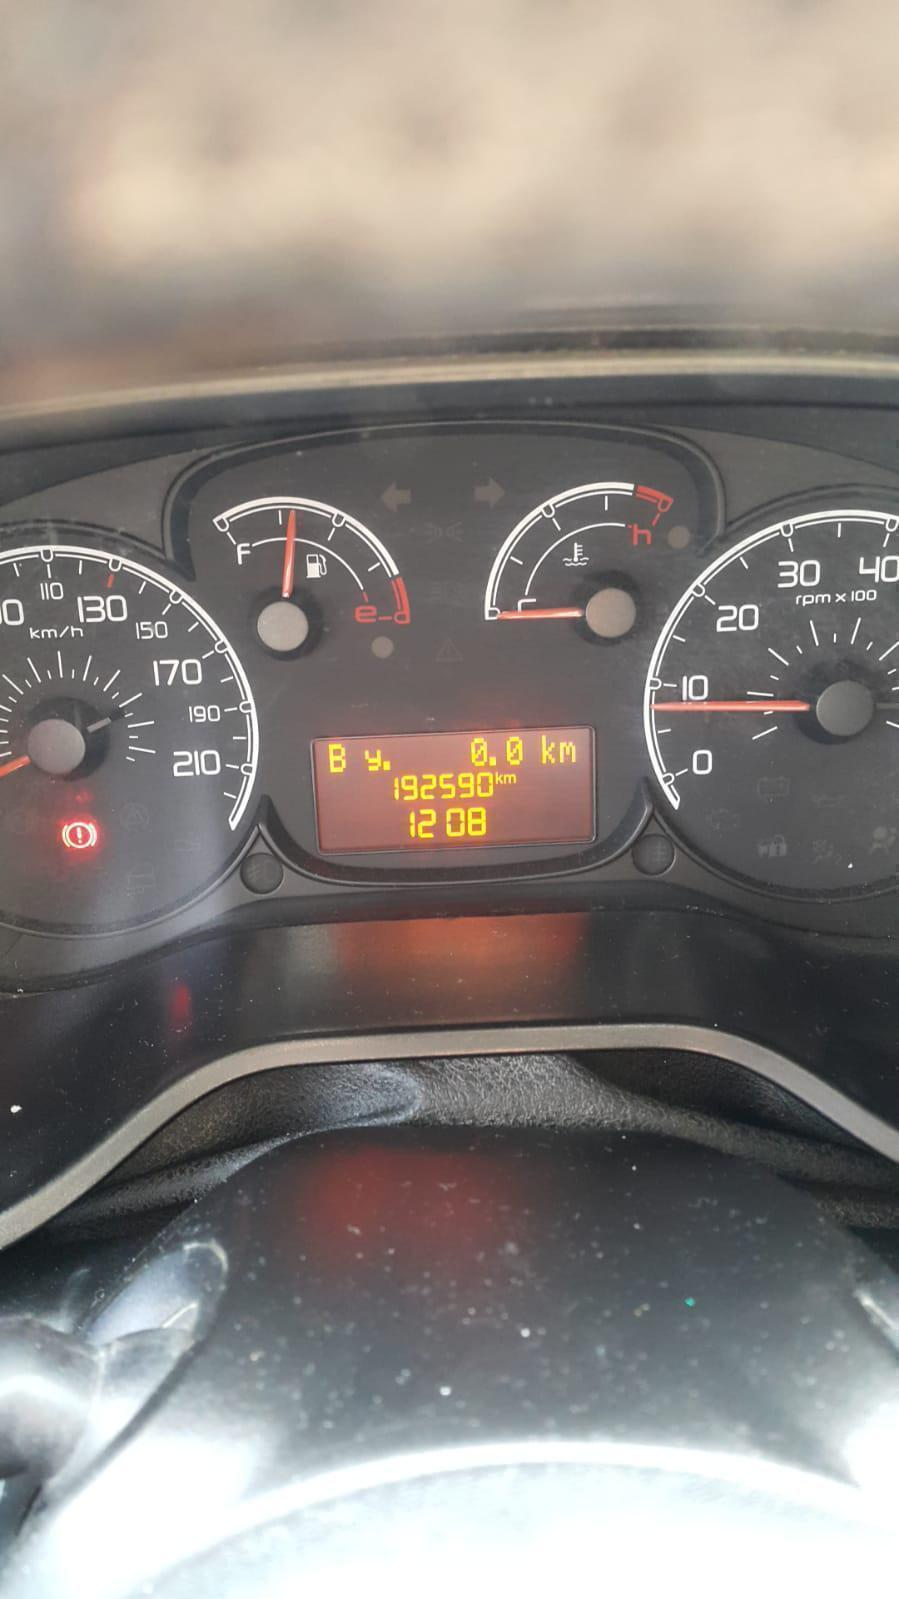,: (381, 756, 392, 772), (487, 753, 498, 767)
0: (443, 805, 465, 838), (469, 736, 486, 768), (505, 735, 522, 765), (476, 771, 493, 800)
1: (406, 808, 416, 840), (392, 773, 401, 801)
2: (418, 806, 436, 838), (419, 773, 436, 800)
5: (438, 772, 456, 800)
8: (467, 806, 486, 837)
9: (457, 770, 474, 800), (401, 774, 418, 801)
X: (326, 743, 350, 778), (557, 738, 577, 764), (539, 733, 557, 763), (362, 747, 381, 774), (504, 772, 515, 784), (494, 771, 503, 785)
odometer: (304, 720, 613, 861)
